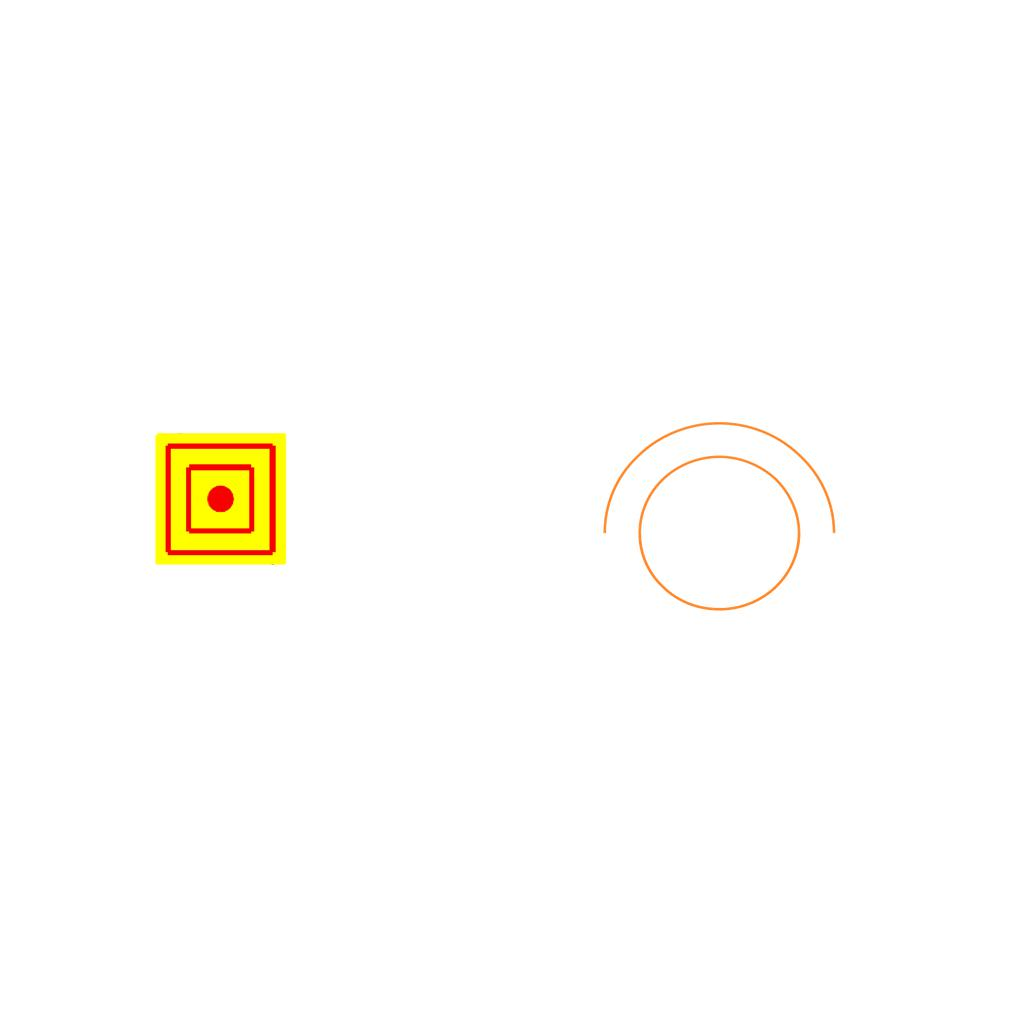NAM-Nichtautomatischer_Melder: (155, 433, 287, 565)
Scheinwerfer_fuer_Alarmbeleuchtung: (581, 411, 845, 636)
